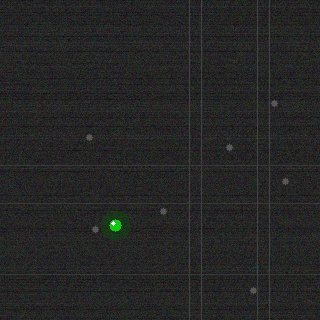green_normal: (107, 217, 123, 233)
